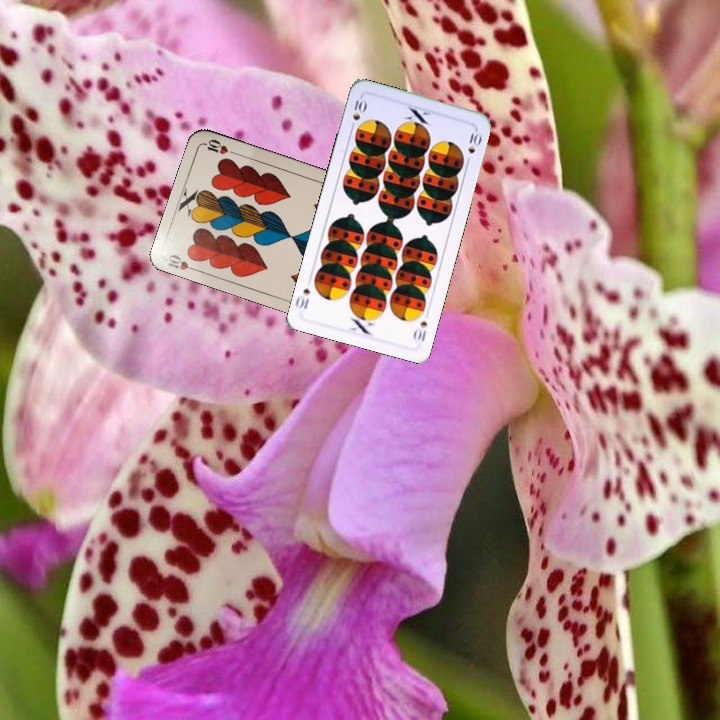H10: (164, 250, 202, 275)
S10: (346, 93, 369, 133), (409, 317, 430, 344)
